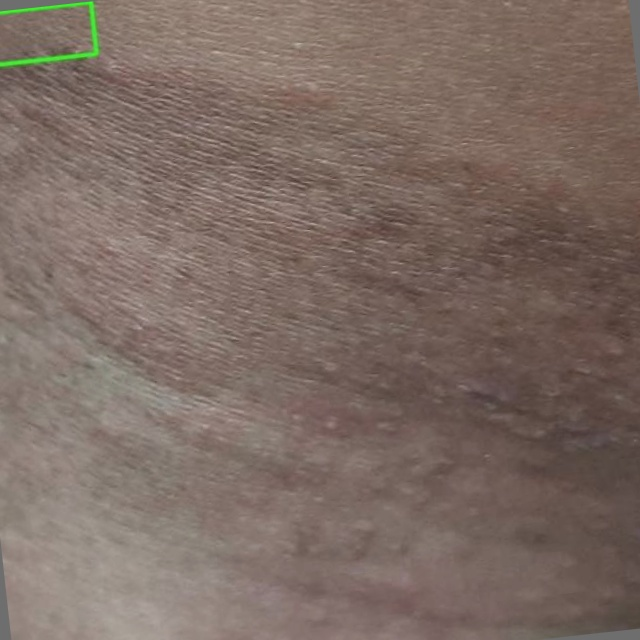Tinea Corporis: (0, 2, 96, 64)
